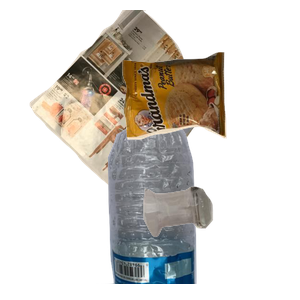glass: (141, 184, 300, 300)
paper: (27, 10, 230, 190)
plastic: (96, 120, 285, 300)
trash: (120, 50, 300, 182)
